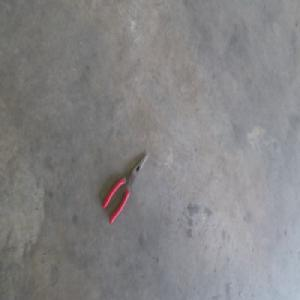Pliers: (100, 152, 146, 223)
